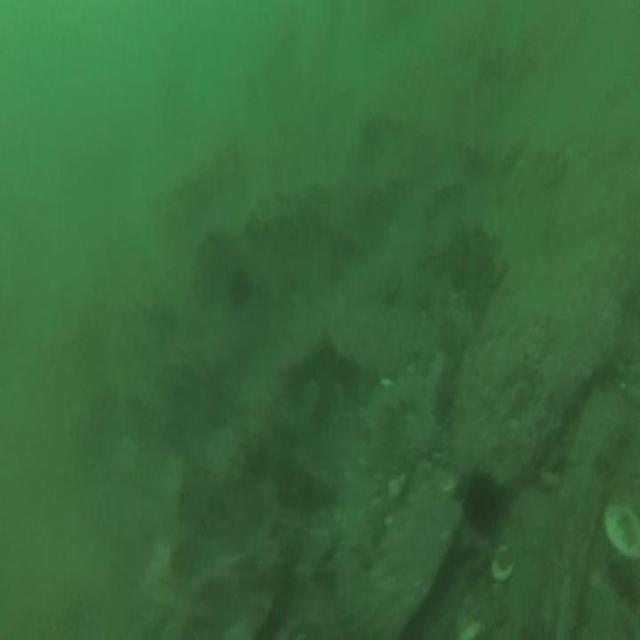echinus: (465, 469, 499, 536), (226, 267, 250, 307)
